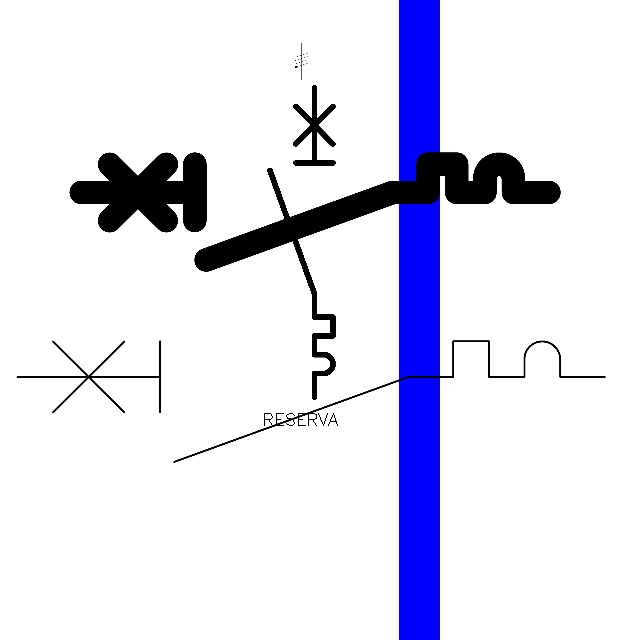interruptor_termomagnetico: (2, 326, 620, 477), (69, 152, 561, 272), (262, 79, 341, 404)
